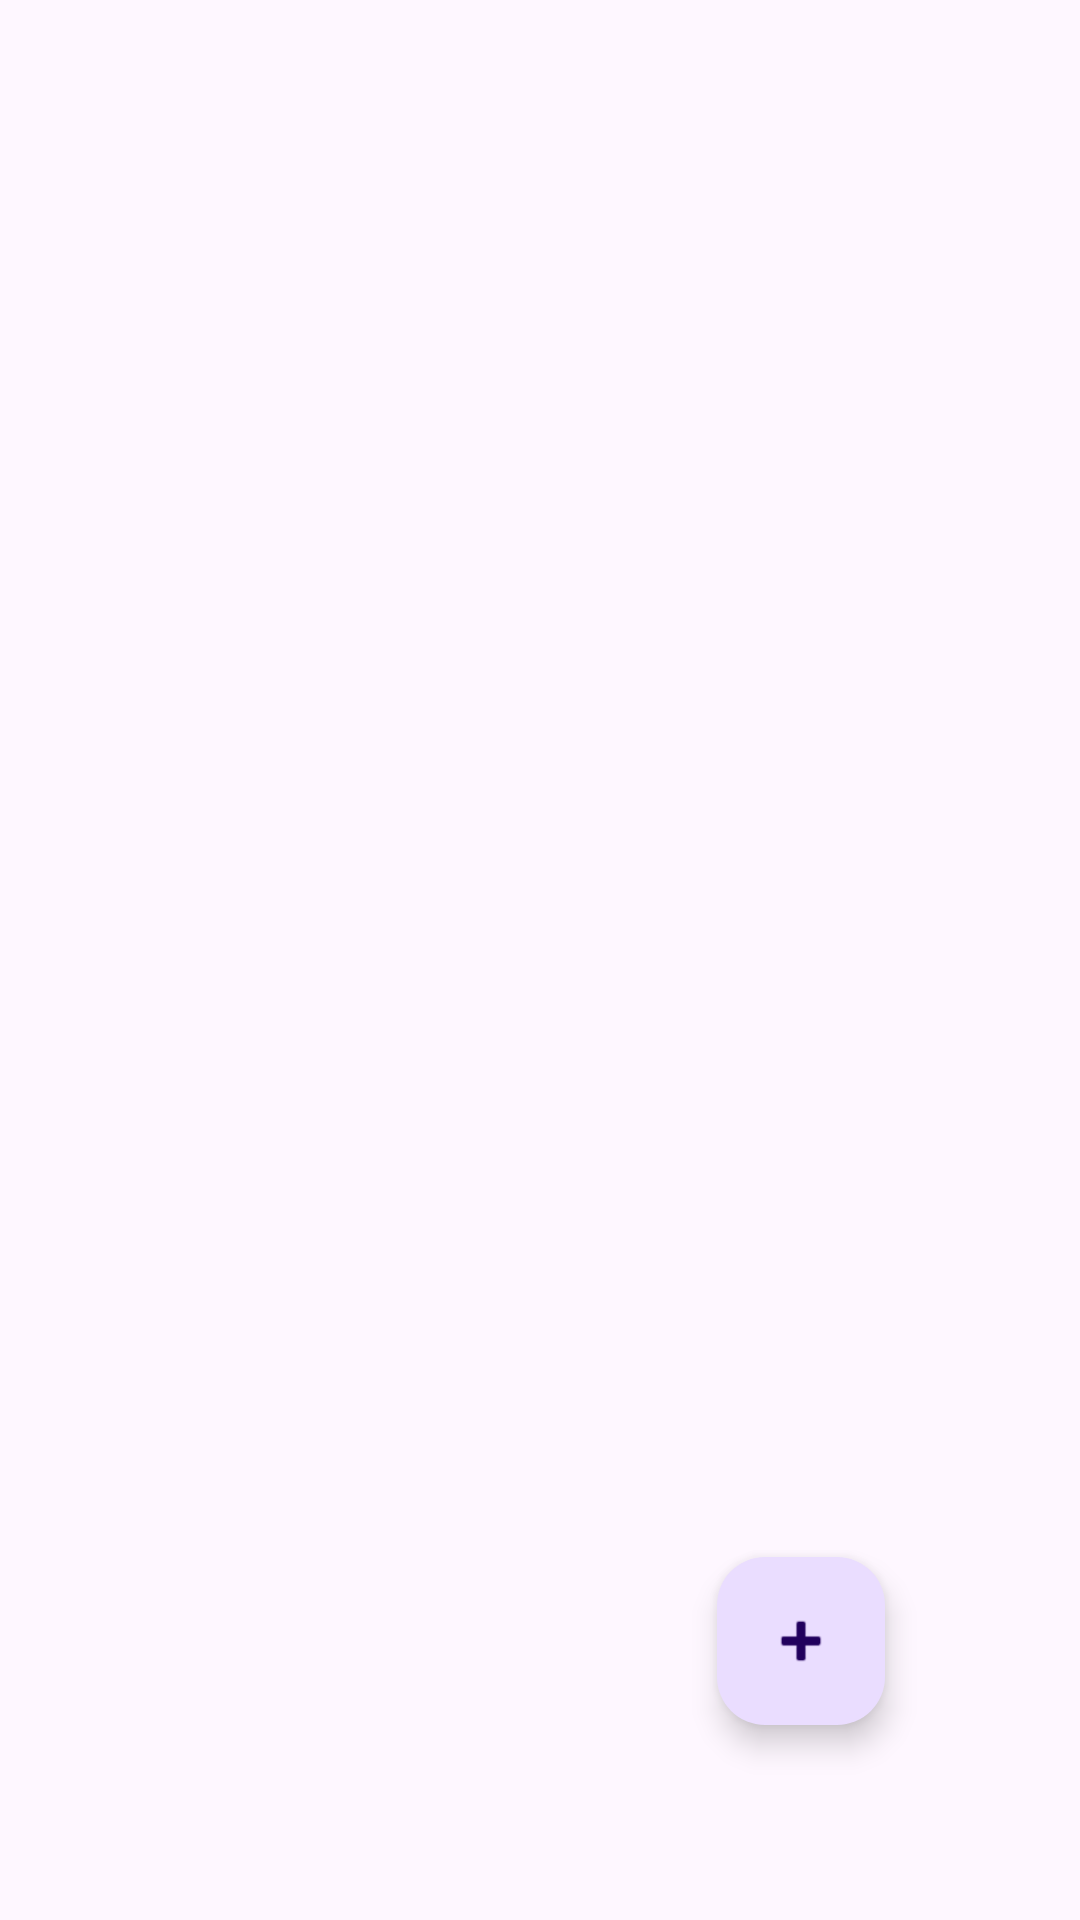

Icon click points for this 1080 × 1920 phone screenshot, format (x=x, y=y):
Adicionar nova despesa: (x=801, y=1641)
